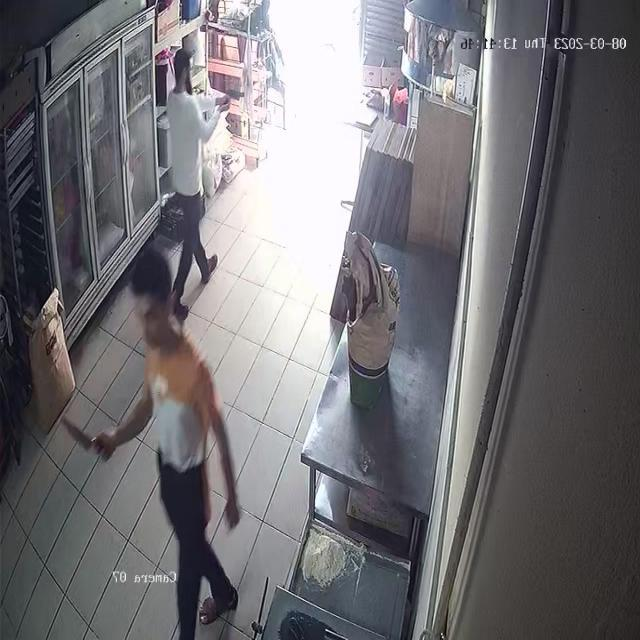Gun: (222, 80, 252, 112)
Knife: (51, 413, 97, 454)
